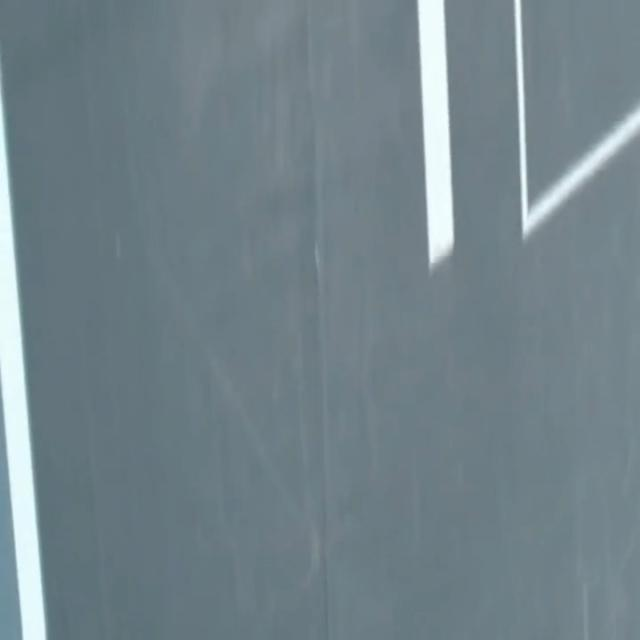center: (418, 0, 454, 269)
